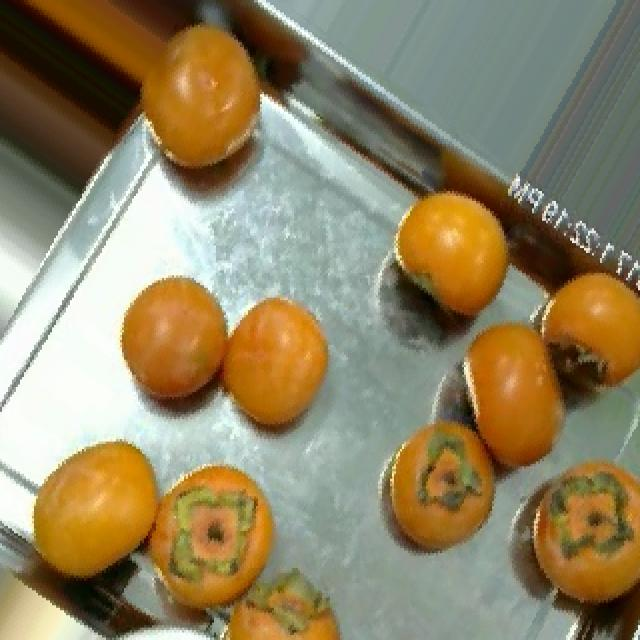Fruit: (10, 412, 178, 612), (442, 288, 592, 506), (96, 250, 254, 454), (374, 166, 534, 357), (368, 400, 524, 576), (500, 439, 640, 635), (206, 273, 350, 461), (148, 444, 296, 620)
